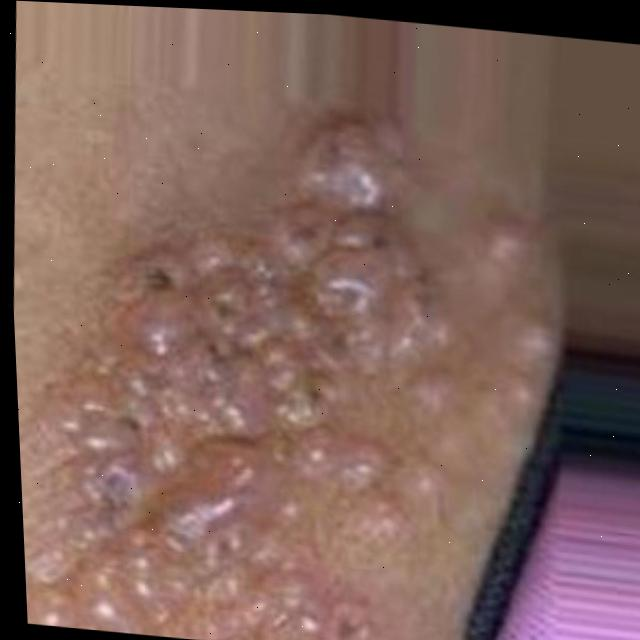Shingles: (60, 125, 485, 640)
